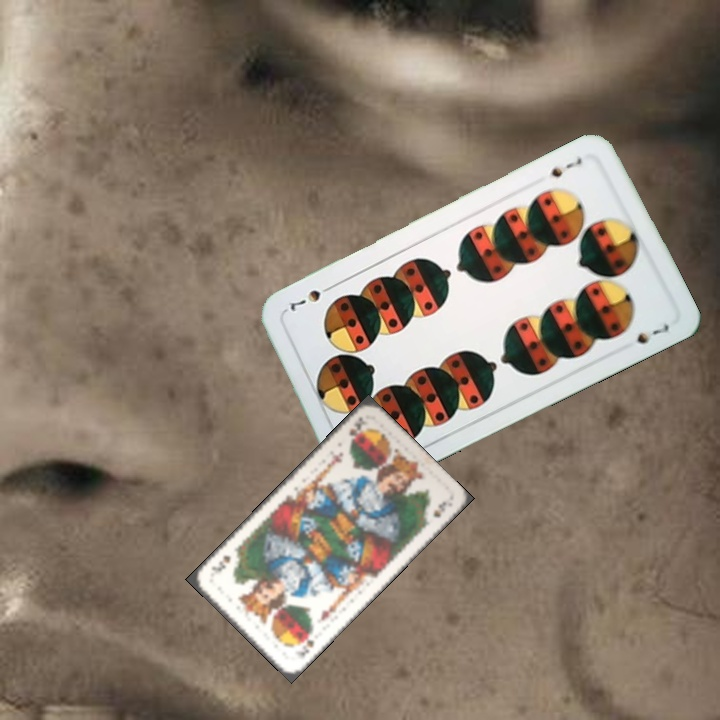S7: (547, 153, 585, 180)
SK: (292, 627, 317, 659), (345, 412, 369, 445)
